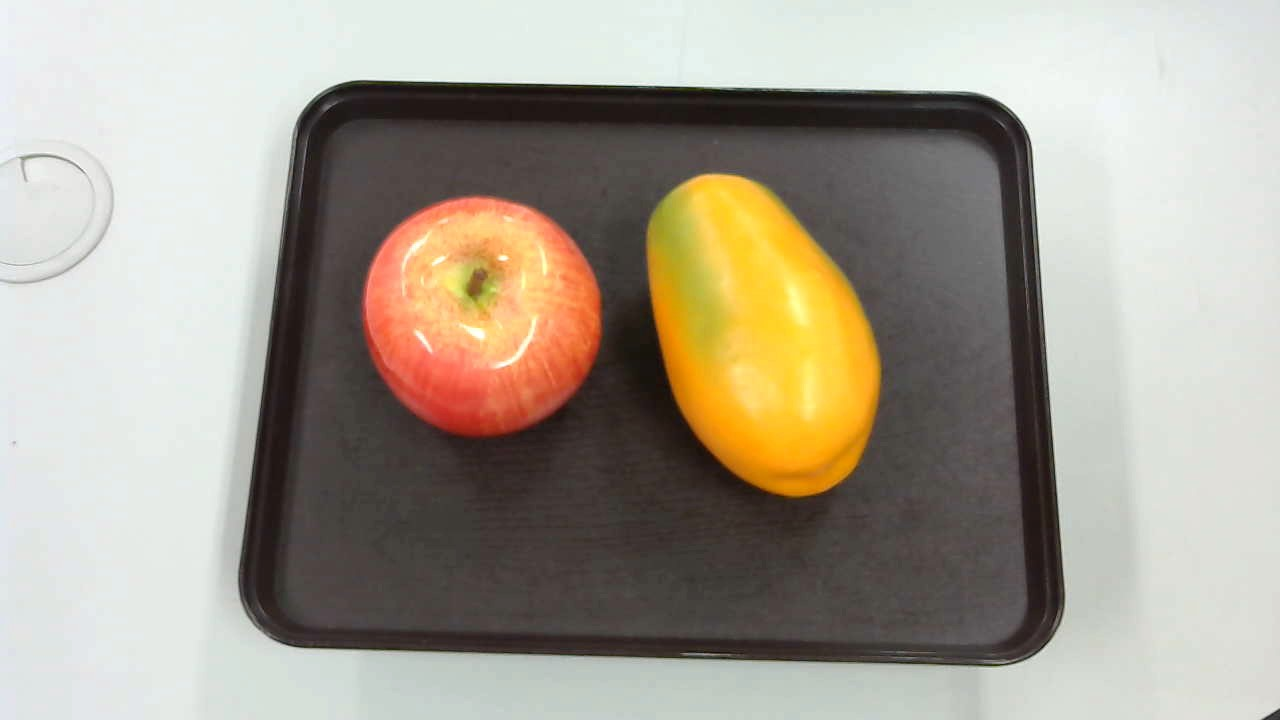papya: (645, 172, 879, 502)
red apple: (364, 193, 608, 442)
